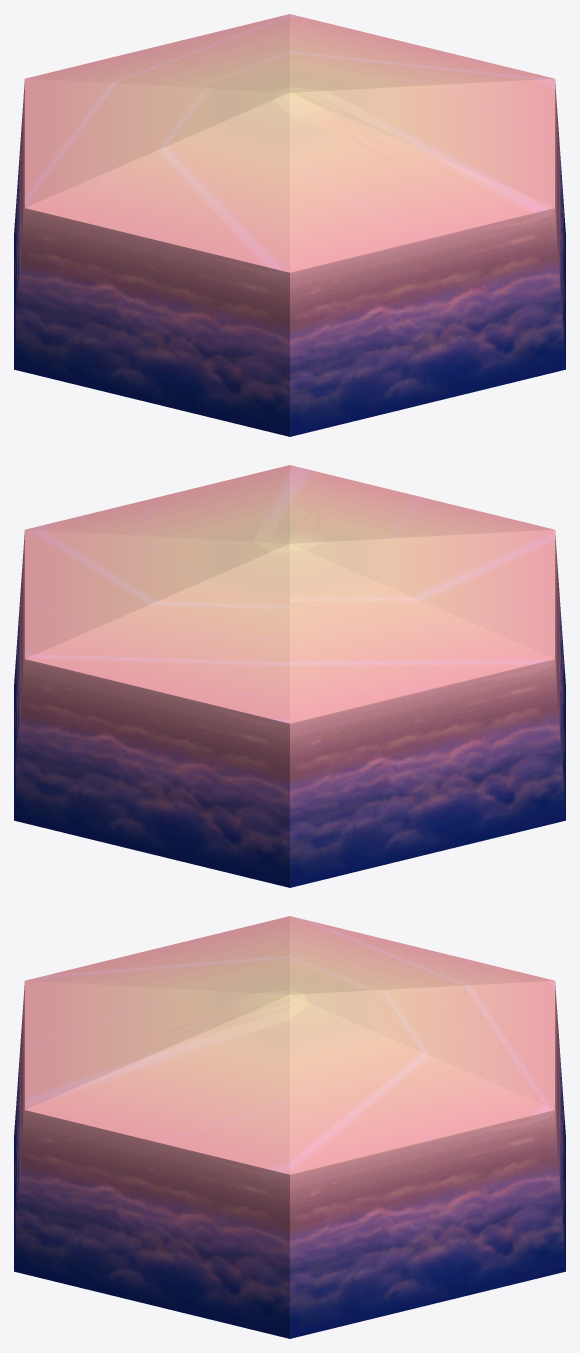
The model's file is MR_stage2-MR_stage2_V.glb.
3 renders of one model, top to bottom at view 1: azimuth 30°, elevation 25°; view 2: azimuth 150°, elevation 25°; view 3: azimuth 270°, elevation 25°, orthographic.
Parts seen in each view (by area): view 1: MR_stage2_V; view 2: MR_stage2_V; view 3: MR_stage2_V.
Boxes of the visible parts, x1=… form: MR_stage2_V: x1=14, y1=14, x2=565, y2=436; MR_stage2_V: x1=14, y1=465, x2=565, y2=887; MR_stage2_V: x1=14, y1=916, x2=565, y2=1338.
Bounding box in the file's own units: 1503 × 545 × 1302.
Materials: 1 (1 with a texture image).
